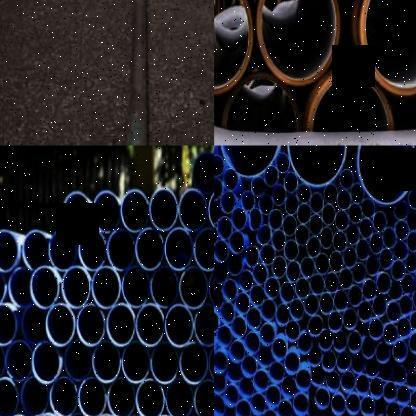pipe: (257, 0, 340, 86), (358, 0, 416, 96), (308, 70, 394, 132), (223, 72, 302, 132), (214, 0, 253, 94), (356, 145, 416, 206), (286, 146, 346, 188), (219, 146, 281, 178), (106, 302, 136, 348), (178, 188, 208, 233), (135, 226, 164, 272), (62, 191, 92, 235), (164, 227, 194, 271), (30, 266, 60, 309), (150, 341, 180, 384), (149, 188, 178, 232), (61, 266, 90, 310), (180, 266, 209, 310), (46, 304, 75, 348), (135, 304, 164, 348), (165, 304, 194, 348), (121, 340, 150, 384), (179, 341, 208, 385), (92, 190, 121, 233), (92, 267, 121, 310), (92, 340, 121, 383), (31, 341, 60, 384), (49, 228, 77, 272), (150, 266, 179, 308), (76, 304, 105, 346), (108, 229, 136, 272), (121, 189, 148, 233), (78, 229, 106, 271), (122, 266, 150, 308), (64, 340, 92, 381), (135, 378, 165, 416), (5, 340, 32, 382), (107, 377, 136, 416), (165, 377, 194, 416), (22, 230, 50, 270), (20, 376, 48, 416), (49, 376, 77, 416), (78, 376, 106, 416), (21, 304, 48, 345), (8, 266, 32, 309), (193, 226, 214, 272), (192, 151, 214, 194), (193, 304, 214, 346), (0, 229, 19, 271), (193, 379, 214, 416), (0, 377, 18, 416), (0, 302, 16, 345), (230, 207, 247, 231), (228, 340, 245, 364), (295, 368, 312, 392), (280, 376, 297, 400), (249, 392, 266, 416), (240, 356, 258, 378), (219, 191, 236, 214), (230, 316, 247, 339), (283, 352, 300, 375), (228, 230, 244, 254), (271, 256, 287, 280), (260, 298, 276, 322), (308, 314, 324, 338), (318, 328, 334, 352), (271, 338, 287, 362), (268, 362, 284, 386), (345, 392, 361, 416), (259, 244, 276, 266), (332, 289, 349, 311), (226, 362, 243, 384), (222, 168, 238, 191), (308, 213, 324, 236), (314, 252, 330, 275), (238, 269, 254, 292), (234, 292, 250, 315), (289, 298, 305, 321), (246, 307, 262, 330), (368, 318, 384, 341), (284, 320, 300, 343), (260, 323, 276, 346), (216, 325, 232, 348), (392, 340, 408, 363), (253, 370, 269, 393), (264, 386, 280, 409), (330, 393, 346, 416), (292, 393, 308, 416), (355, 238, 370, 262), (275, 303, 290, 327), (361, 336, 376, 360), (258, 194, 274, 216), (332, 230, 348, 252), (300, 257, 316, 279), (254, 263, 270, 285), (264, 277, 280, 299), (386, 301, 402, 323), (396, 318, 412, 340), (244, 333, 260, 355), (321, 350, 337, 372), (336, 351, 352, 373), (364, 357, 380, 379), (392, 364, 408, 386), (238, 378, 254, 400), (314, 388, 330, 410), (284, 193, 299, 216), (334, 209, 349, 232), (286, 260, 301, 283), (280, 281, 295, 304), (399, 295, 414, 318), (372, 295, 387, 318), (220, 302, 235, 325), (343, 308, 358, 331), (333, 330, 348, 353), (298, 332, 313, 355), (307, 345, 322, 368), (351, 352, 366, 375), (341, 371, 356, 394), (355, 373, 370, 396), (250, 176, 266, 197), (256, 224, 272, 245), (227, 254, 243, 275), (390, 260, 406, 281), (377, 272, 391, 296), (378, 361, 394, 382), (224, 384, 238, 408), (350, 182, 365, 204), (321, 204, 336, 226), (372, 211, 387, 233), (282, 214, 297, 236), (295, 224, 310, 246), (271, 230, 286, 252), (369, 233, 384, 255), (306, 236, 321, 258), (284, 239, 299, 261), (214, 240, 229, 262), (214, 262, 229, 284), (339, 268, 354, 290), (324, 272, 339, 294), (250, 284, 265, 306), (358, 301, 373, 323), (258, 346, 273, 368), (369, 378, 384, 400), (272, 183, 286, 206), (310, 191, 324, 214), (218, 217, 232, 240), (320, 226, 334, 249), (245, 245, 259, 268), (348, 285, 362, 308), (320, 292, 334, 315), (348, 331, 362, 354), (376, 342, 390, 365), (214, 351, 228, 374), (388, 281, 404, 301), (396, 386, 412, 406), (360, 396, 376, 416), (323, 183, 338, 204), (337, 189, 352, 210), (268, 209, 283, 230), (359, 218, 374, 239), (379, 249, 394, 270), (329, 251, 344, 272), (295, 278, 310, 299), (264, 165, 278, 187), (284, 172, 298, 194), (297, 202, 311, 224), (346, 224, 360, 246), (383, 226, 397, 248), (343, 246, 357, 268), (366, 255, 380, 277), (352, 262, 366, 284), (310, 274, 324, 296), (362, 279, 376, 301), (222, 280, 236, 302), (304, 294, 318, 316), (384, 324, 398, 346), (326, 370, 340, 392), (361, 198, 376, 218), (340, 168, 354, 189), (241, 190, 255, 211), (394, 220, 408, 241), (401, 274, 415, 295), (328, 311, 342, 332), (311, 366, 325, 387), (384, 382, 398, 403), (297, 183, 311, 203), (348, 203, 362, 223), (249, 208, 261, 231), (234, 400, 251, 416), (393, 242, 408, 260), (208, 188, 214, 232), (214, 372, 226, 394), (277, 399, 292, 416), (208, 266, 214, 308), (0, 266, 6, 308), (394, 201, 408, 219), (306, 397, 319, 416), (214, 395, 225, 416), (214, 288, 224, 310), (0, 341, 5, 382), (406, 232, 416, 252), (406, 252, 416, 272), (407, 210, 416, 232), (402, 355, 416, 369), (386, 402, 400, 416), (214, 177, 222, 201), (407, 370, 416, 390), (214, 200, 221, 223), (409, 332, 416, 354), (401, 406, 415, 416), (410, 310, 416, 330), (410, 390, 416, 410), (214, 311, 219, 333), (261, 410, 278, 416), (214, 224, 218, 247), (412, 288, 416, 310), (347, 414, 363, 416), (375, 414, 389, 416), (246, 415, 262, 416)
